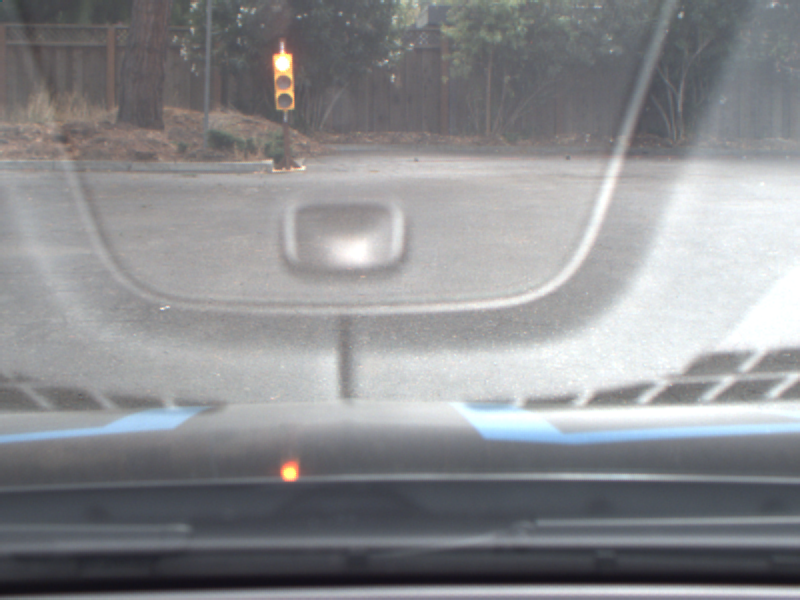red: (273, 54, 294, 114)
